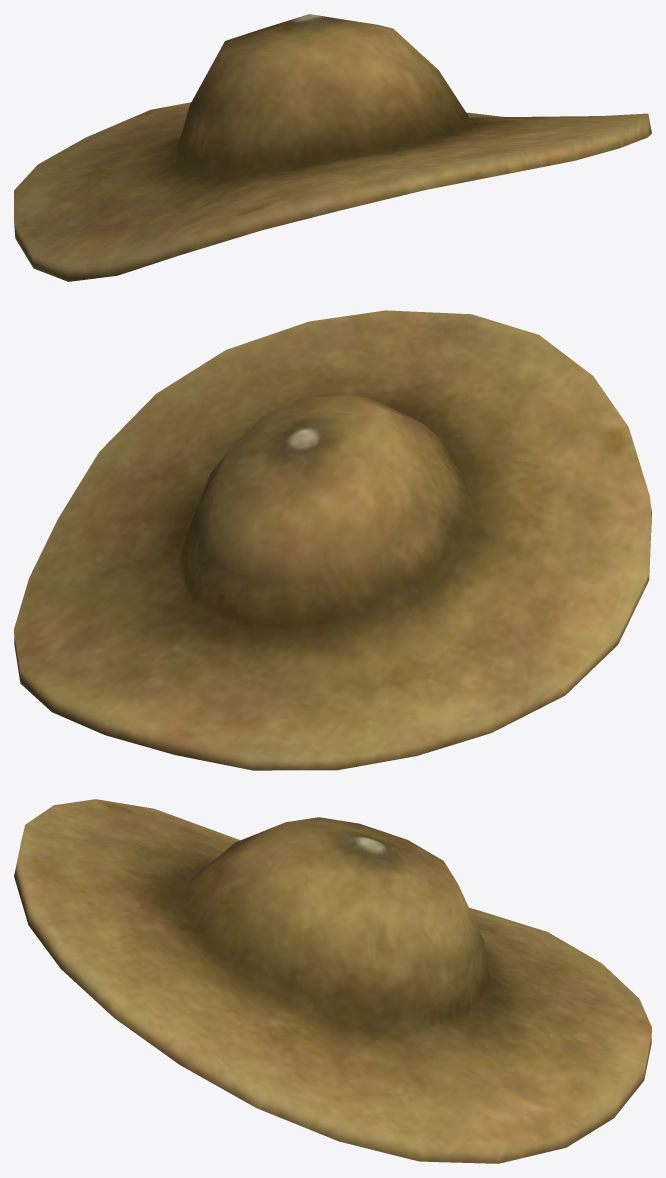
File: helmet-base.glb
3 renders of one model, top to bottom at view 1: azimuth 30°, elevation 25°; view 2: azimuth 150°, elevation 25°; view 3: azimuth 270°, elevation 25°, orthographic.
Bounding box in the file's own units: 0.5591 × 0.2236 × 0.578.
Materials: 1 (1 with a texture image).
